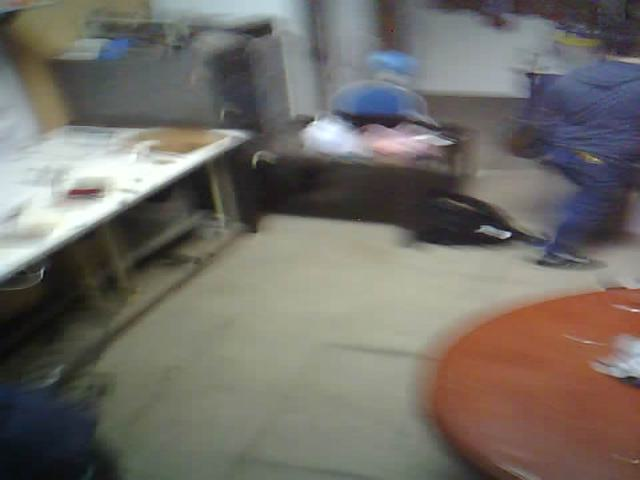person: (495, 7, 640, 284)
